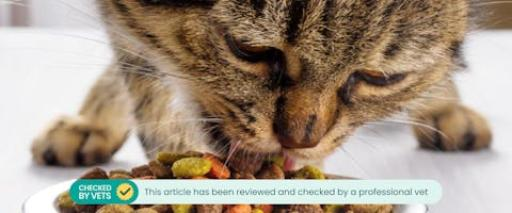cat_eating: (32, 0, 491, 178)
